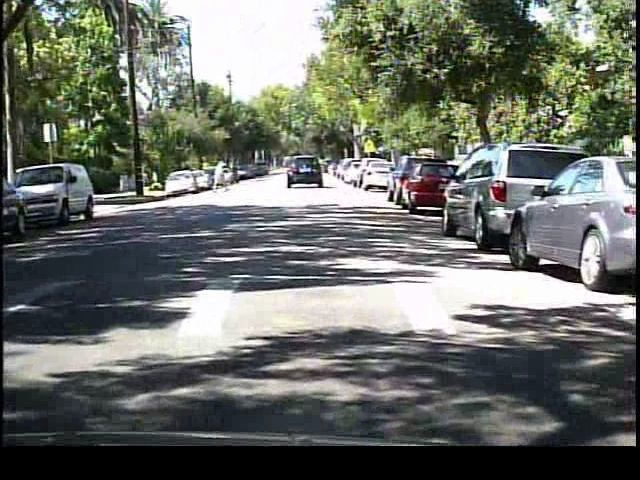person: (211, 155, 231, 196)
